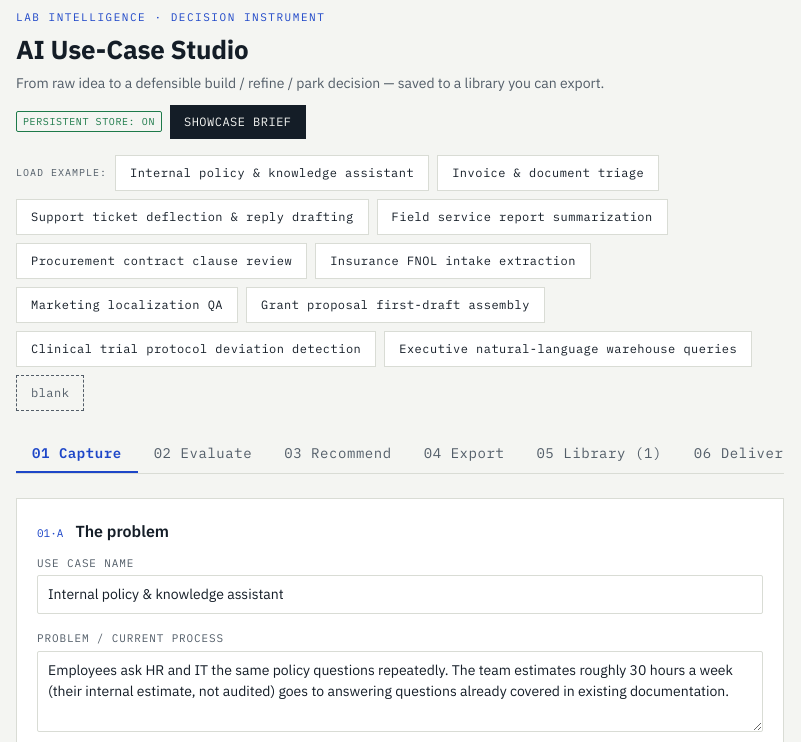
Test: StudioApp — library wiring › deletes via the API and restores the row if the DELETE fails
Expected: the text "persistent store: on" is shown, [16, 111, 162, 132]
Click the button "05 Library (1)" at (599, 454), box [520, 434, 678, 472]
(page scrolled)
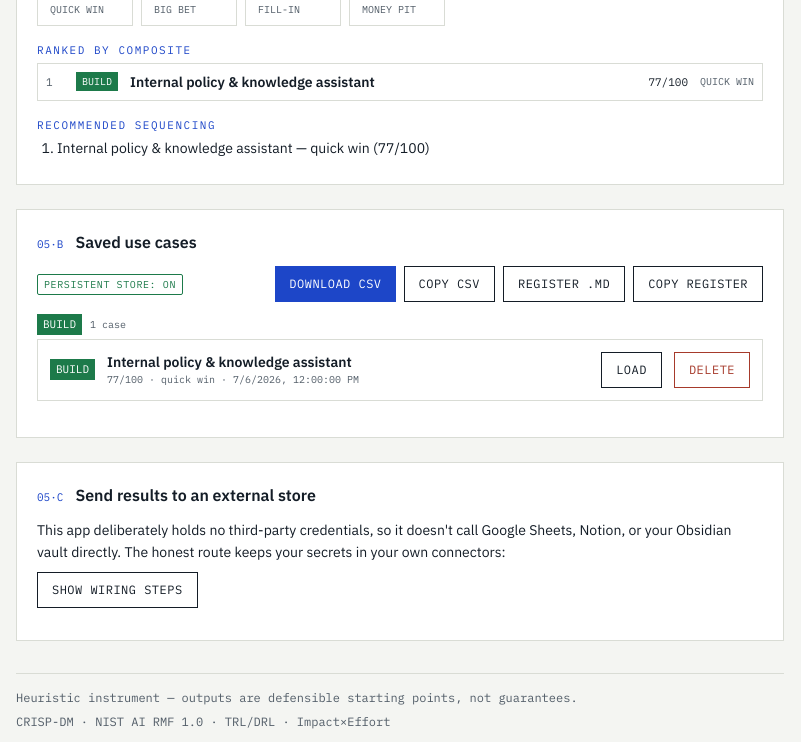
Click the button "DELETE" at (712, 370), box [674, 352, 750, 388]
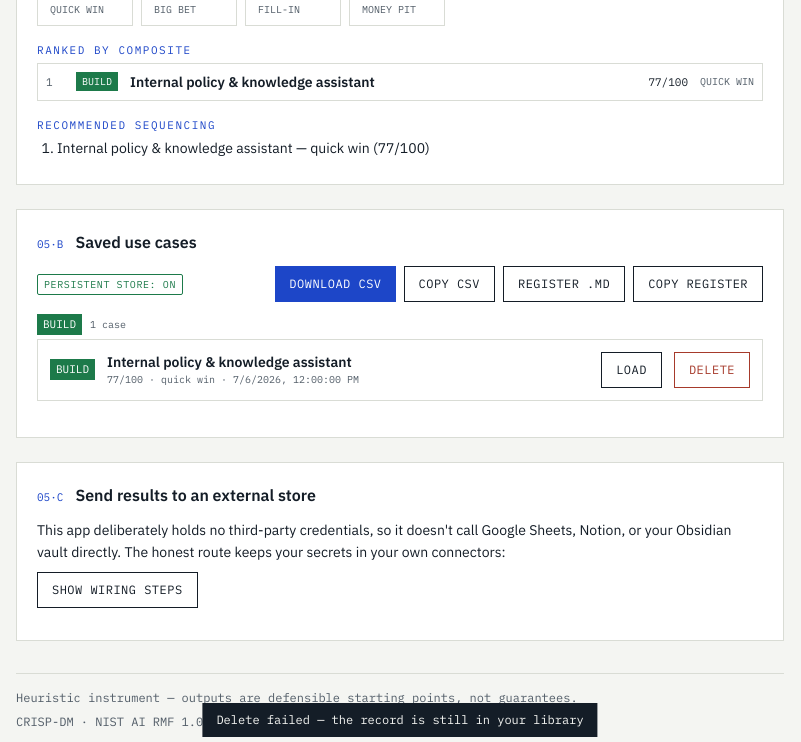
Expected: the button "DELETE" is shown, [674, 352, 750, 388]
Expected: the text "Delete failed — the record is still in your library" is shown, [202, 703, 598, 737]
